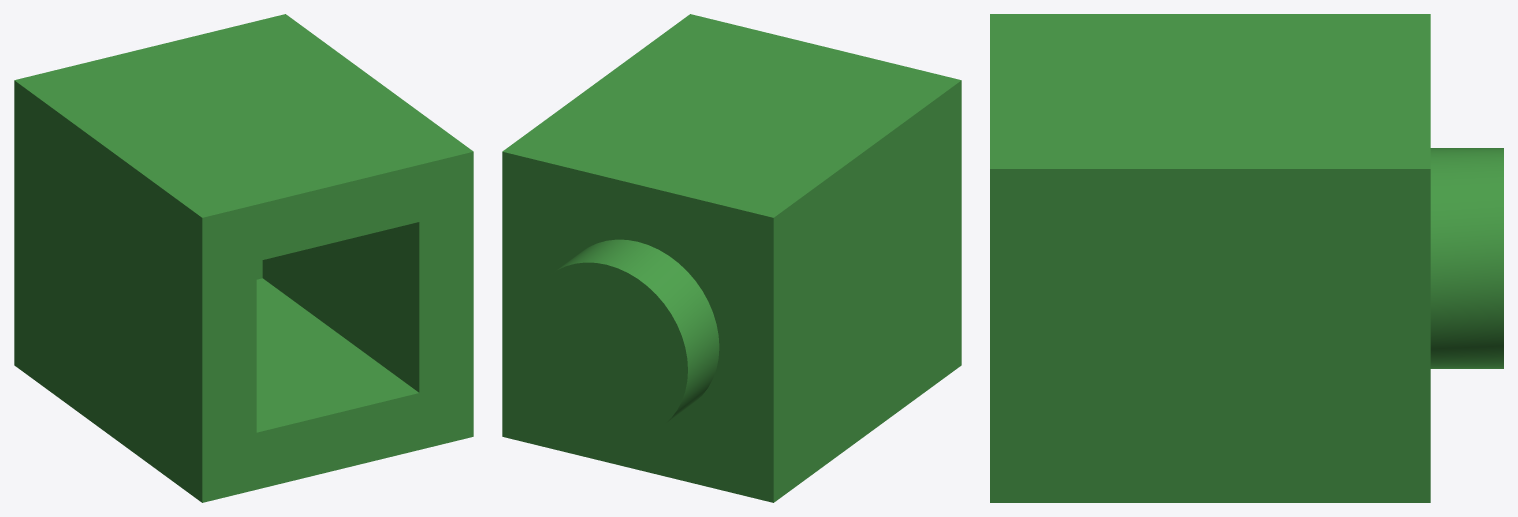
The model's file is pasto 1.dae.
3 renders of one model, left to right at view 1: azimuth 30°, elevation 25°; view 2: azimuth 150°, elevation 25°; view 3: azimuth 270°, elevation 25°, orthographic. The views are drawn at different scales.
Visible parts, largest first — view 1: Inner-Node-UntitledModel_dot_io-0; view 2: Inner-Node-UntitledModel_dot_io-0; view 3: Inner-Node-UntitledModel_dot_io-0.
Part boxes in pixels (x1,y1,x2,y2): Inner-Node-UntitledModel_dot_io-0: (14,14,473,502); Inner-Node-UntitledModel_dot_io-0: (502,14,961,502); Inner-Node-UntitledModel_dot_io-0: (990,14,1503,502).
Bounding box in the file's own units: 19.75 × 19.82 × 27.65.
